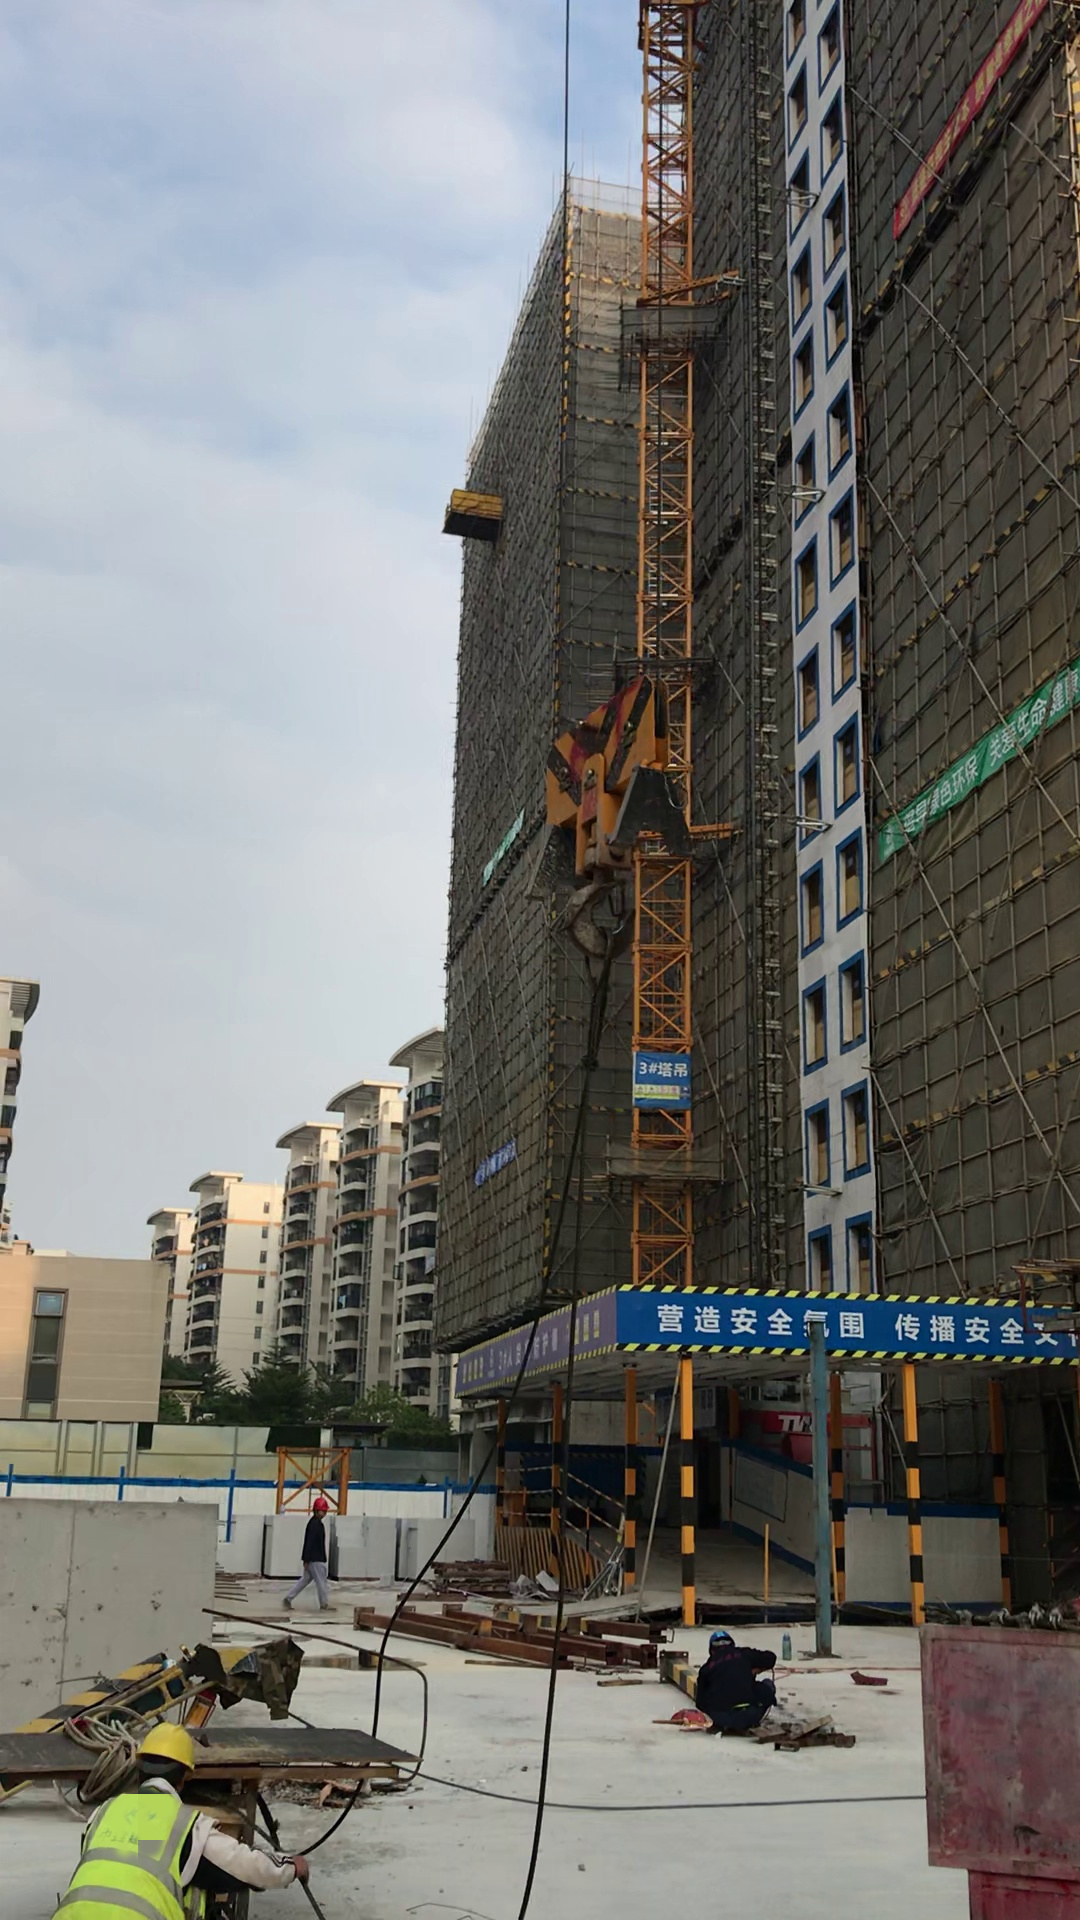cutter: (53, 1719, 378, 1890)
helmet: (135, 1723, 196, 1769), (708, 1630, 735, 1645), (311, 1497, 329, 1509)
hook: (544, 679, 673, 958)
person: (63, 1723, 230, 1920), (703, 1631, 776, 1740), (295, 1502, 332, 1617)
slogan: (893, 663, 1080, 844), (636, 1292, 1080, 1356), (465, 1300, 603, 1365), (478, 811, 522, 890), (470, 1144, 520, 1192)
vest: (65, 1792, 193, 1915)
